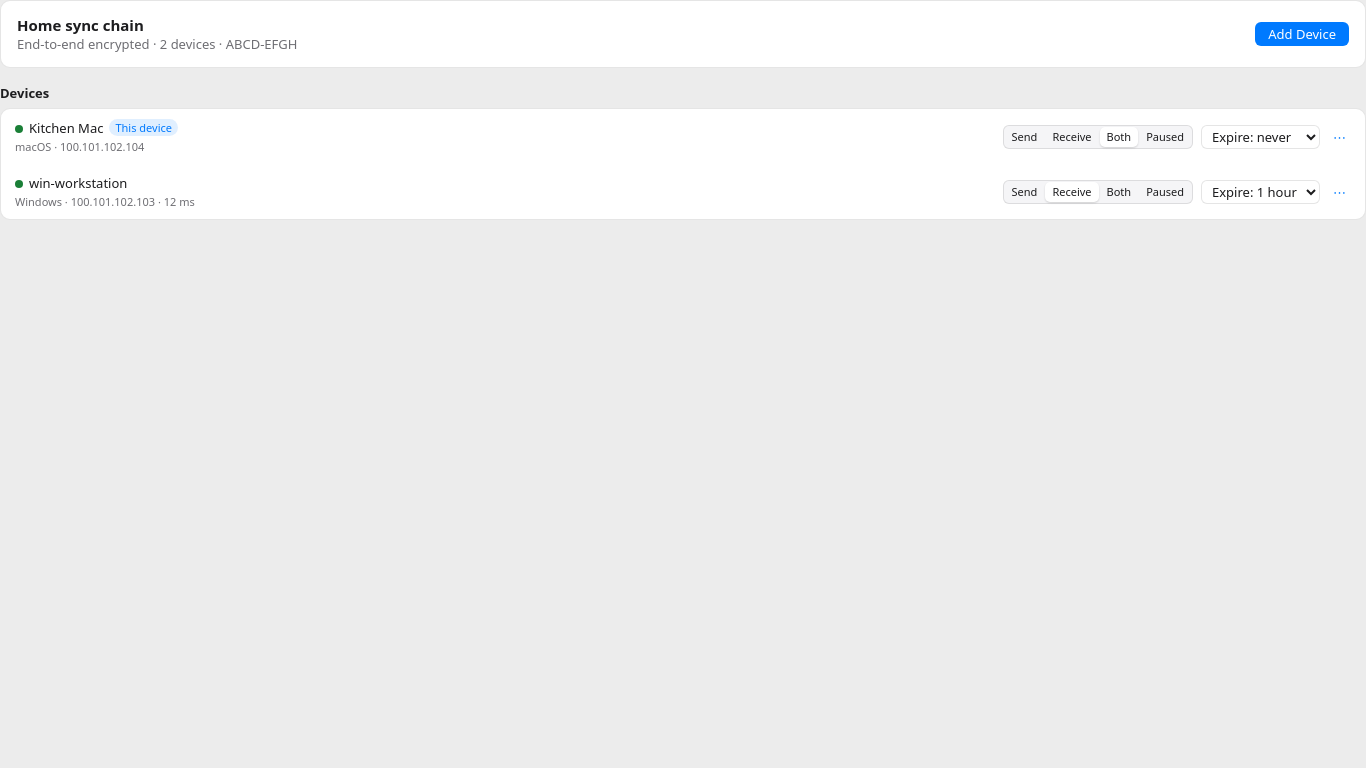
Test: DevicesPage › renames this device: prefills the shown name, keeps focus while typing, saves trimmed
The width and height of the screenshot is (1366, 768).
Expected: the text "Home sync chain" is shown, [17,15,144,35]
Click the button named "More for Kitchen Mac": (1340, 136) [1328,124,1351,148]
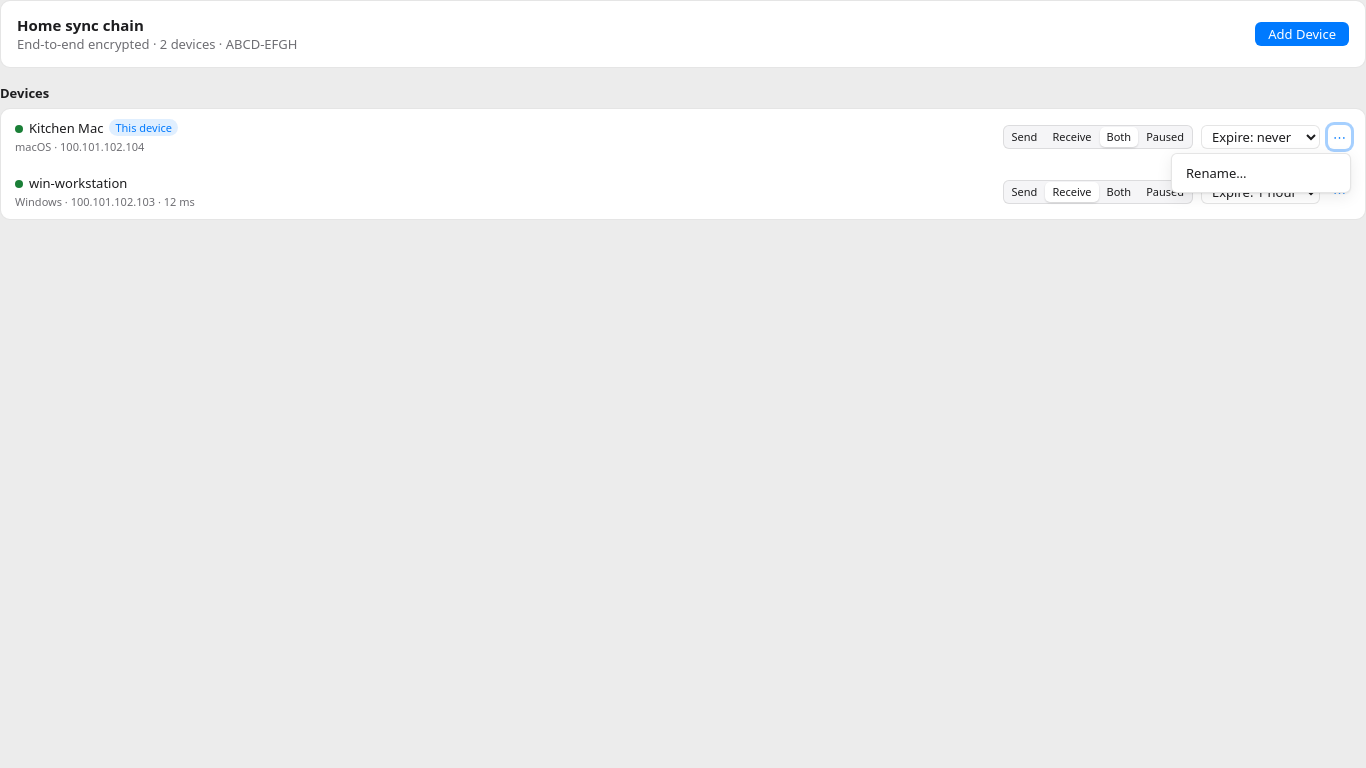
Click the menu item "Rename…": (1261, 172) [1176,158,1346,188]
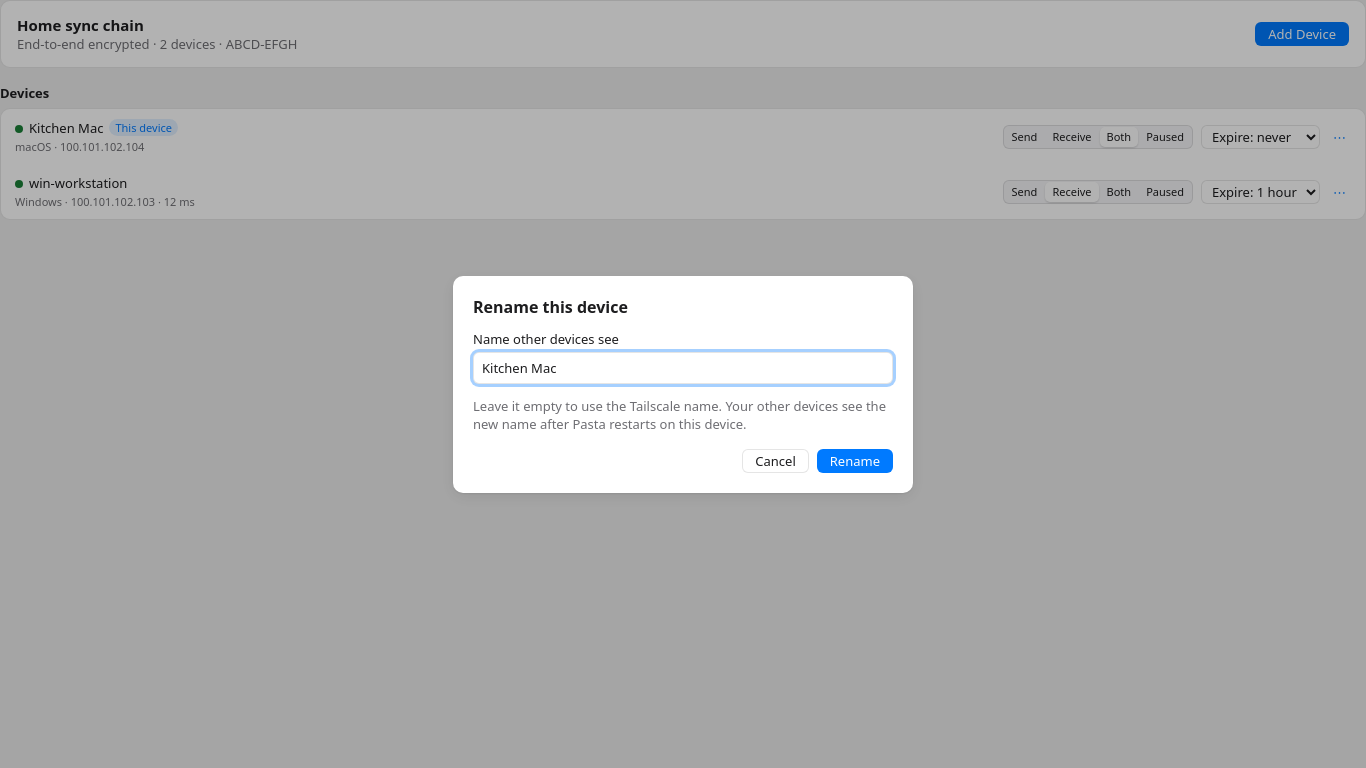
Now the field holds "Kitchen Mac"
Replace the text in the field with "  Studio Mac  ": (683, 368) [473,352,893,384]
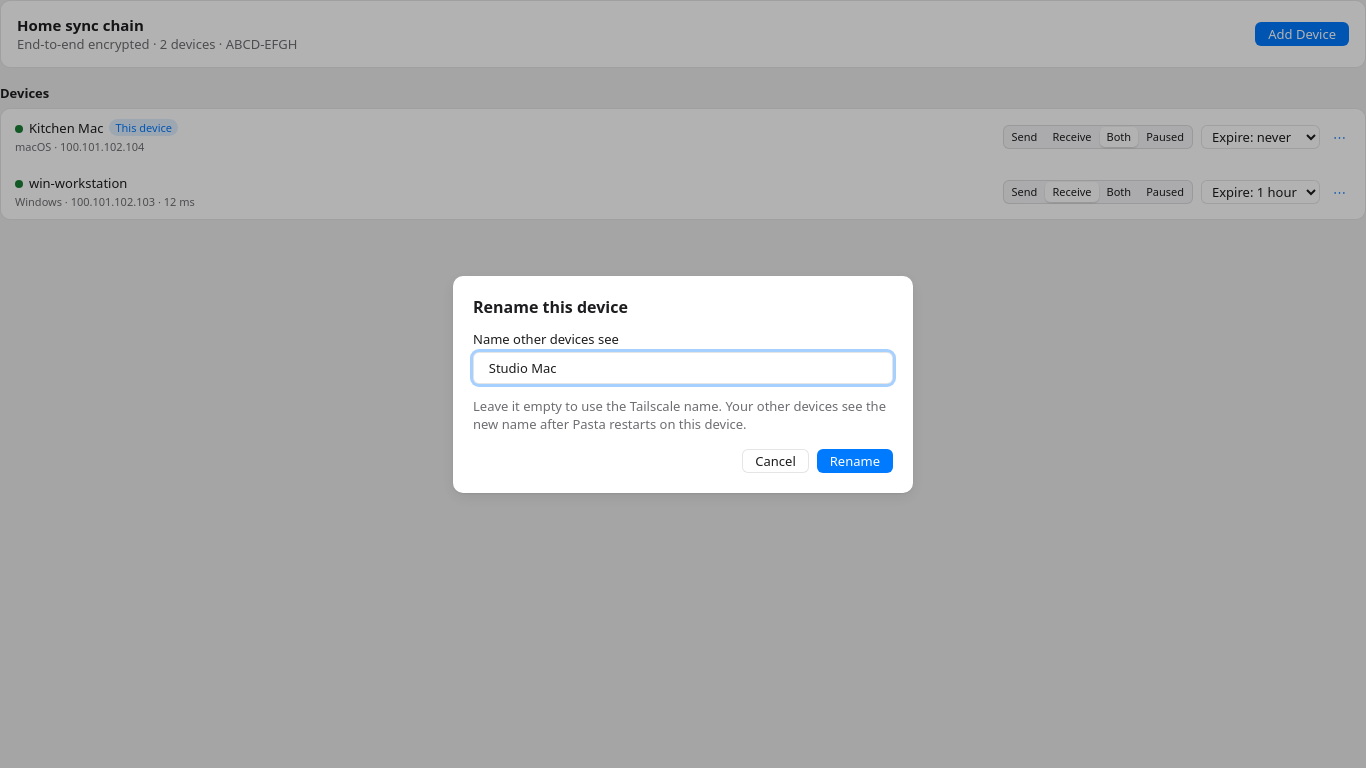
Click the button "Rename": (855, 460) [817,448,893,472]
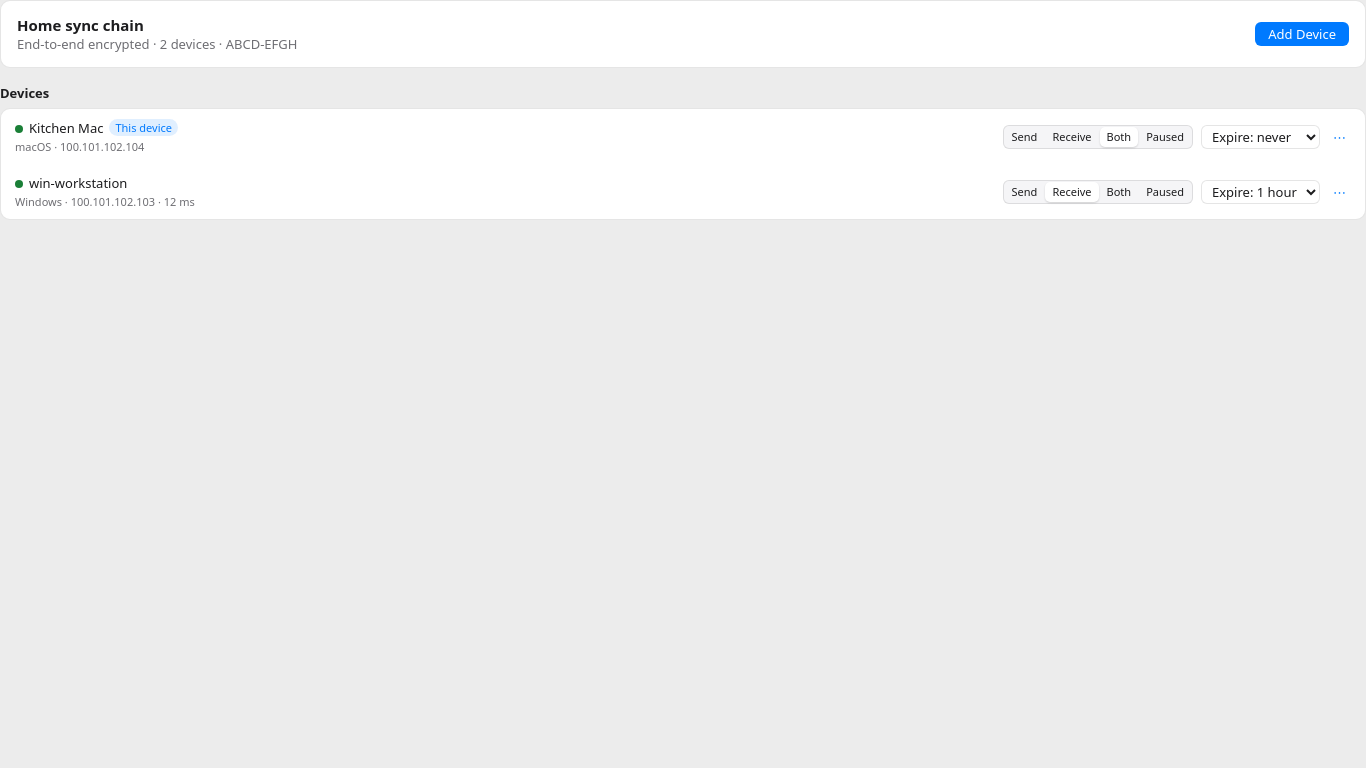
Now the dialog is gone
